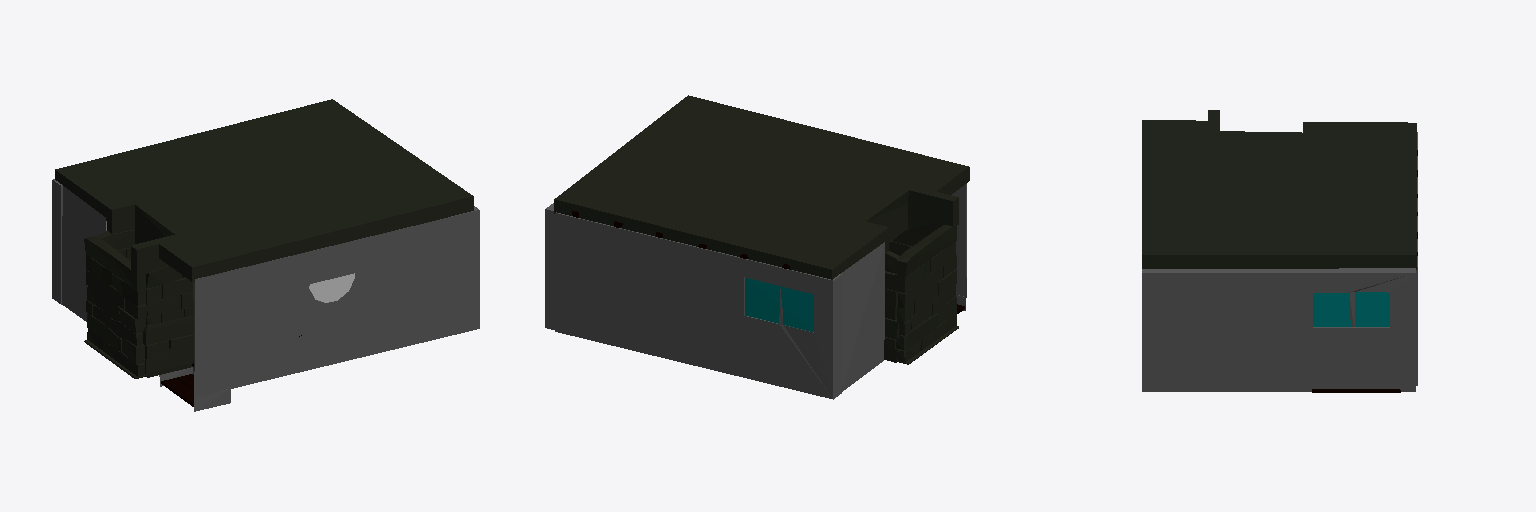
File: kitchen.obj
The picture shows the model from 3 angles: view 1: azimuth 30°, elevation 25°; view 2: azimuth 150°, elevation 25°; view 3: azimuth 270°, elevation 25°; orthographic projection.
Parts seen in each view (by area): view 1: Circle.005; view 2: Circle.005; view 3: Circle.005.
Part boxes in pixels (x1,y1,x2,y2): Circle.005: (52,99,479,411); Circle.005: (545,95,969,399); Circle.005: (1142,110,1417,392).
Bounding box in the file's own units: 44.68 × 20.18 × 34.14.